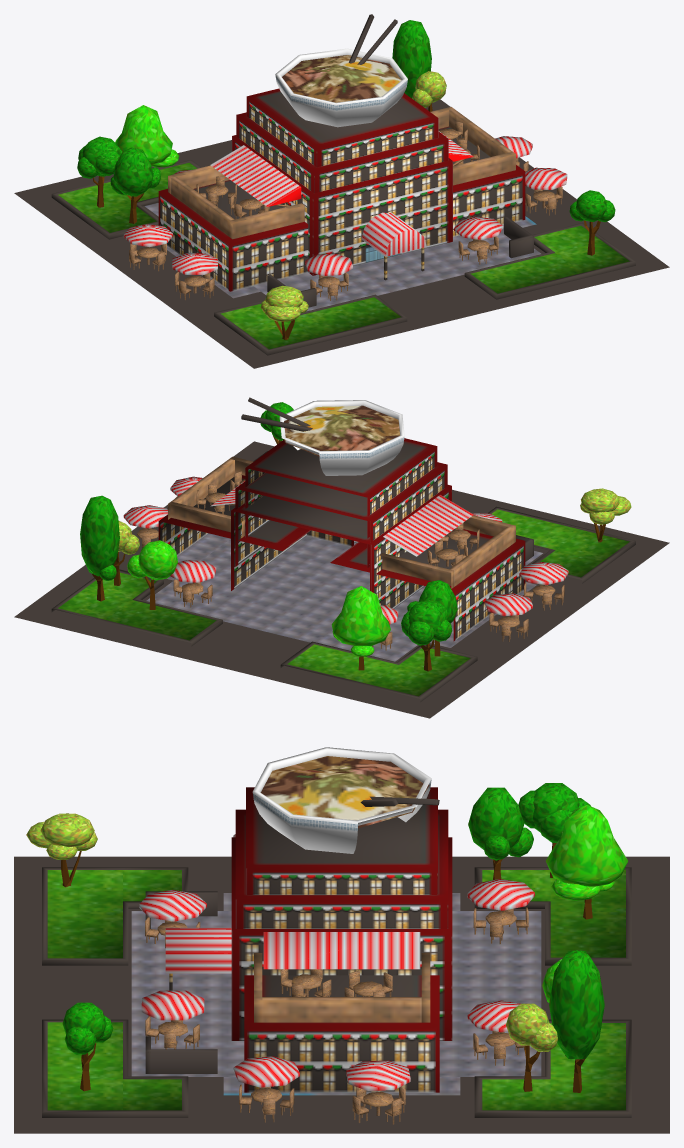
Rendered from restaurant_LV2.fbx.
The picture shows the model from 3 angles, top to bottom: view 1: azimuth 30°, elevation 25°; view 2: azimuth 150°, elevation 25°; view 3: azimuth 270°, elevation 25°; orthographic projection. The views are drawn at different scales.
Parts seen in each view (by area): view 1: restaurant level 2; view 2: restaurant level 2; view 3: restaurant level 2.
Part boxes in pixels (left/top/right/bottom): restaurant level 2: left=14, top=14, right=669, bottom=368; restaurant level 2: left=14, top=397, right=669, bottom=718; restaurant level 2: left=14, top=747, right=669, bottom=1133.
Bounding box in the file's own units: 100 × 41.12 × 100.
